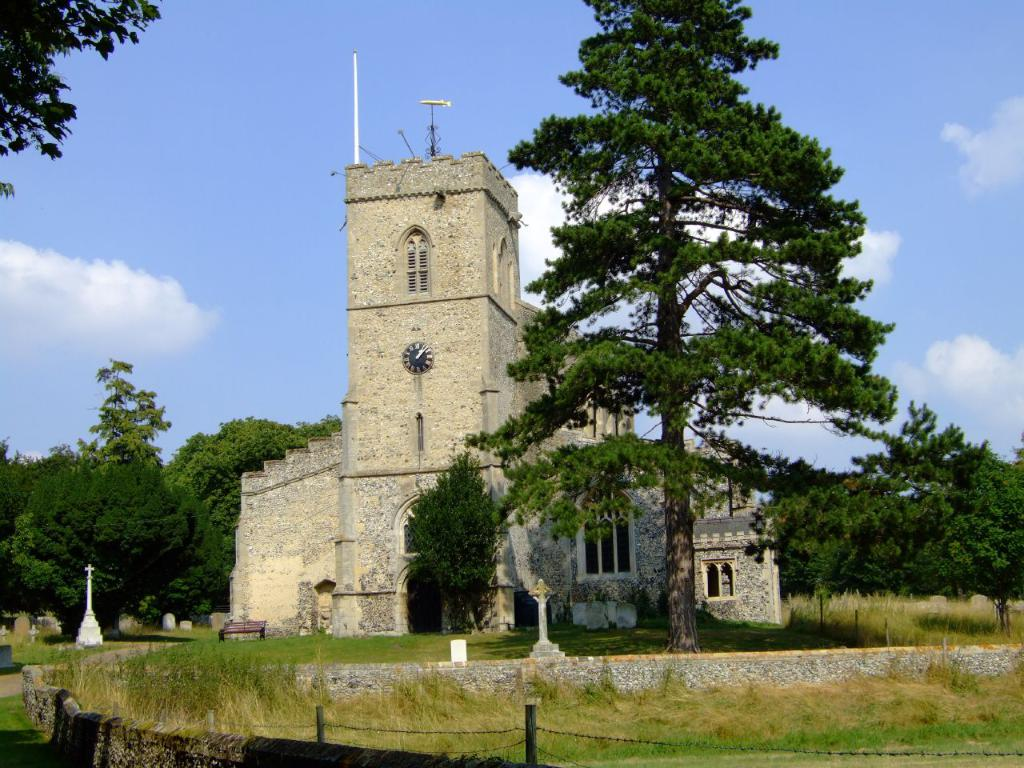Tree: (505, 20, 861, 625), (0, 352, 343, 643), (750, 395, 1023, 639), (0, 0, 163, 198), (402, 444, 502, 635)
